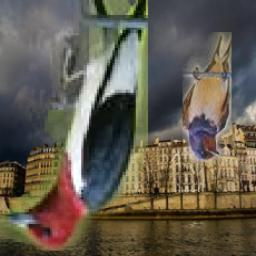Swallow: (183, 32, 232, 162)
Woodpecker: (1, 0, 149, 252)
